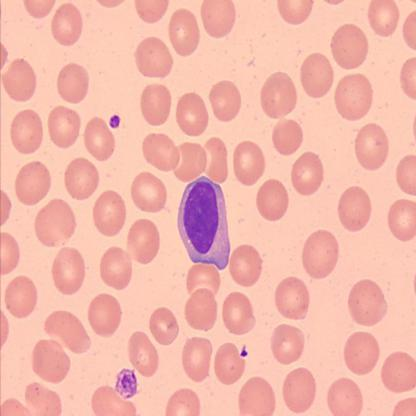Atypical lymphocyte: (177, 175, 232, 269)
